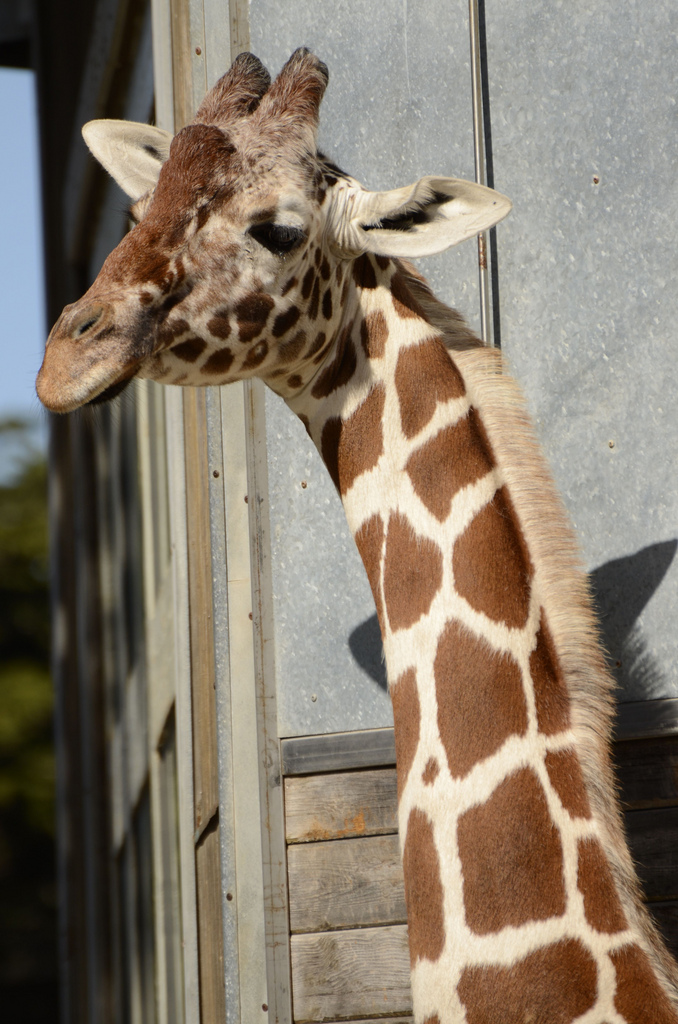giraffe: (66, 69, 670, 1024)
